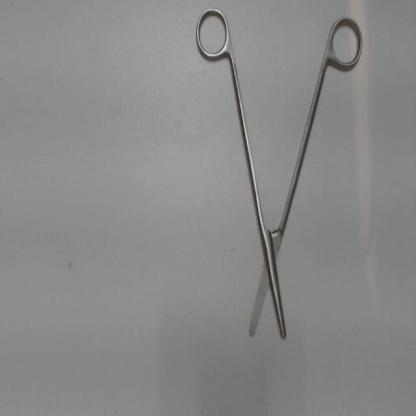9 Metzenbaum Scissors: (190, 1, 370, 346)
